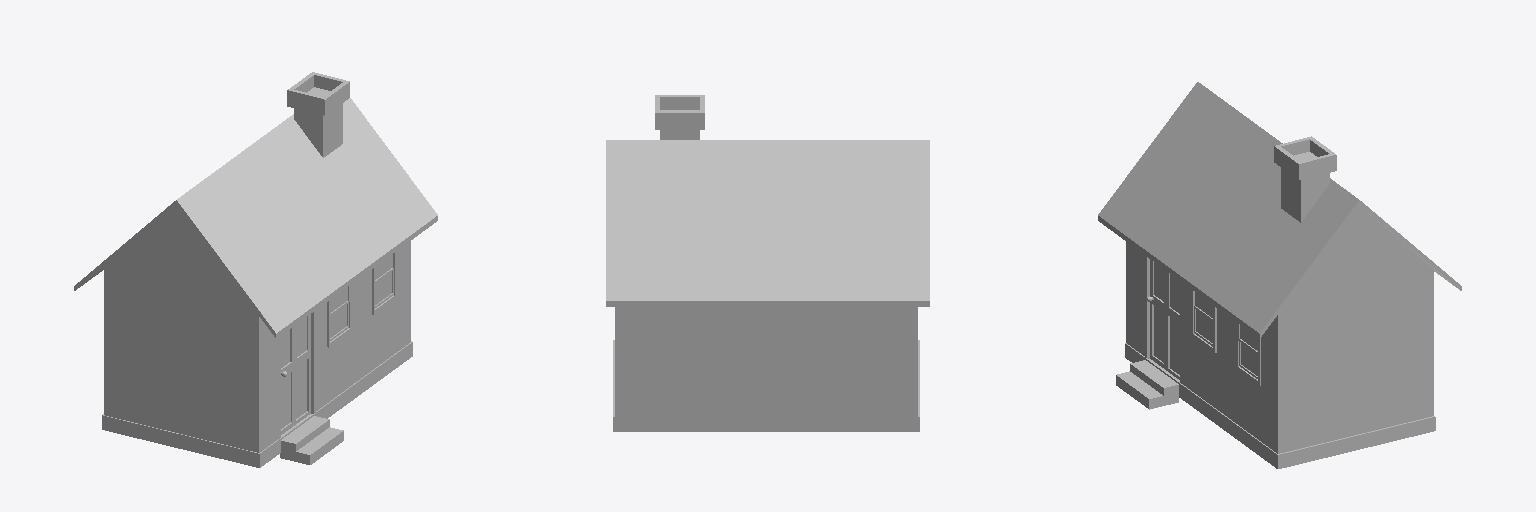
The model's file is casa.obj.
The picture shows the model from 3 angles: view 1: azimuth 30°, elevation 25°; view 2: azimuth 150°, elevation 25°; view 3: azimuth 270°, elevation 25°; orthographic projection.
Parts seen in each view (by area): view 1: Mesh.022_casa_Cube.001, Mesh_Mesh_telhado_Plane.000, Mesh.014_Mesh.023_telhado_Plane.000, Mesh.017_Mesh.002_porta_Cube.002, Mesh.018_Mesh.001_escadas_Cube.003, Mesh.013_janela_fundo.001_Plane.004, Mesh.015_janela_fundo_Plane.003; view 2: Mesh_Mesh_telhado_Plane.000, Mesh.022_casa_Cube.001, Mesh.014_Mesh.023_telhado_Plane.000; view 3: Mesh.022_casa_Cube.001, Mesh_Mesh_telhado_Plane.000, Mesh.014_Mesh.023_telhado_Plane.000, Mesh.017_Mesh.002_porta_Cube.002, Mesh.018_Mesh.001_escadas_Cube.003, Mesh.015_janela_fundo_Plane.003, Mesh.013_janela_fundo.001_Plane.004.
Part boxes in pixels (left/top/right/bottom): Mesh.022_casa_Cube.001: left=102, top=206, right=412, bottom=467; Mesh_Mesh_telhado_Plane.000: left=74, top=98, right=437, bottom=338; Mesh.014_Mesh.023_telhado_Plane.000: left=287, top=72, right=349, bottom=157; Mesh.017_Mesh.002_porta_Cube.002: left=281, top=314, right=310, bottom=434; Mesh.018_Mesh.001_escadas_Cube.003: left=280, top=416, right=343, bottom=464; Mesh.013_janela_fundo.001_Plane.004: left=375, top=254, right=392, bottom=304; Mesh.015_janela_fundo_Plane.003: left=330, top=287, right=347, bottom=337; Mesh_Mesh_telhado_Plane.000: left=606, top=140, right=929, bottom=306; Mesh.022_casa_Cube.001: left=613, top=307, right=919, bottom=431; Mesh.014_Mesh.023_telhado_Plane.000: left=655, top=95, right=704, bottom=139; Mesh.022_casa_Cube.001: left=1125, top=206, right=1435, bottom=468; Mesh_Mesh_telhado_Plane.000: left=1098, top=82, right=1461, bottom=338; Mesh.014_Mesh.023_telhado_Plane.000: left=1274, top=136, right=1336, bottom=222; Mesh.017_Mesh.002_porta_Cube.002: left=1150, top=259, right=1179, bottom=379; Mesh.018_Mesh.001_escadas_Cube.003: left=1116, top=360, right=1178, bottom=409; Mesh.015_janela_fundo_Plane.003: left=1195, top=292, right=1212, bottom=342; Mesh.013_janela_fundo.001_Plane.004: left=1240, top=325, right=1257, bottom=375.
Bounding box in the file's own units: 5.46 × 4.32 × 5.